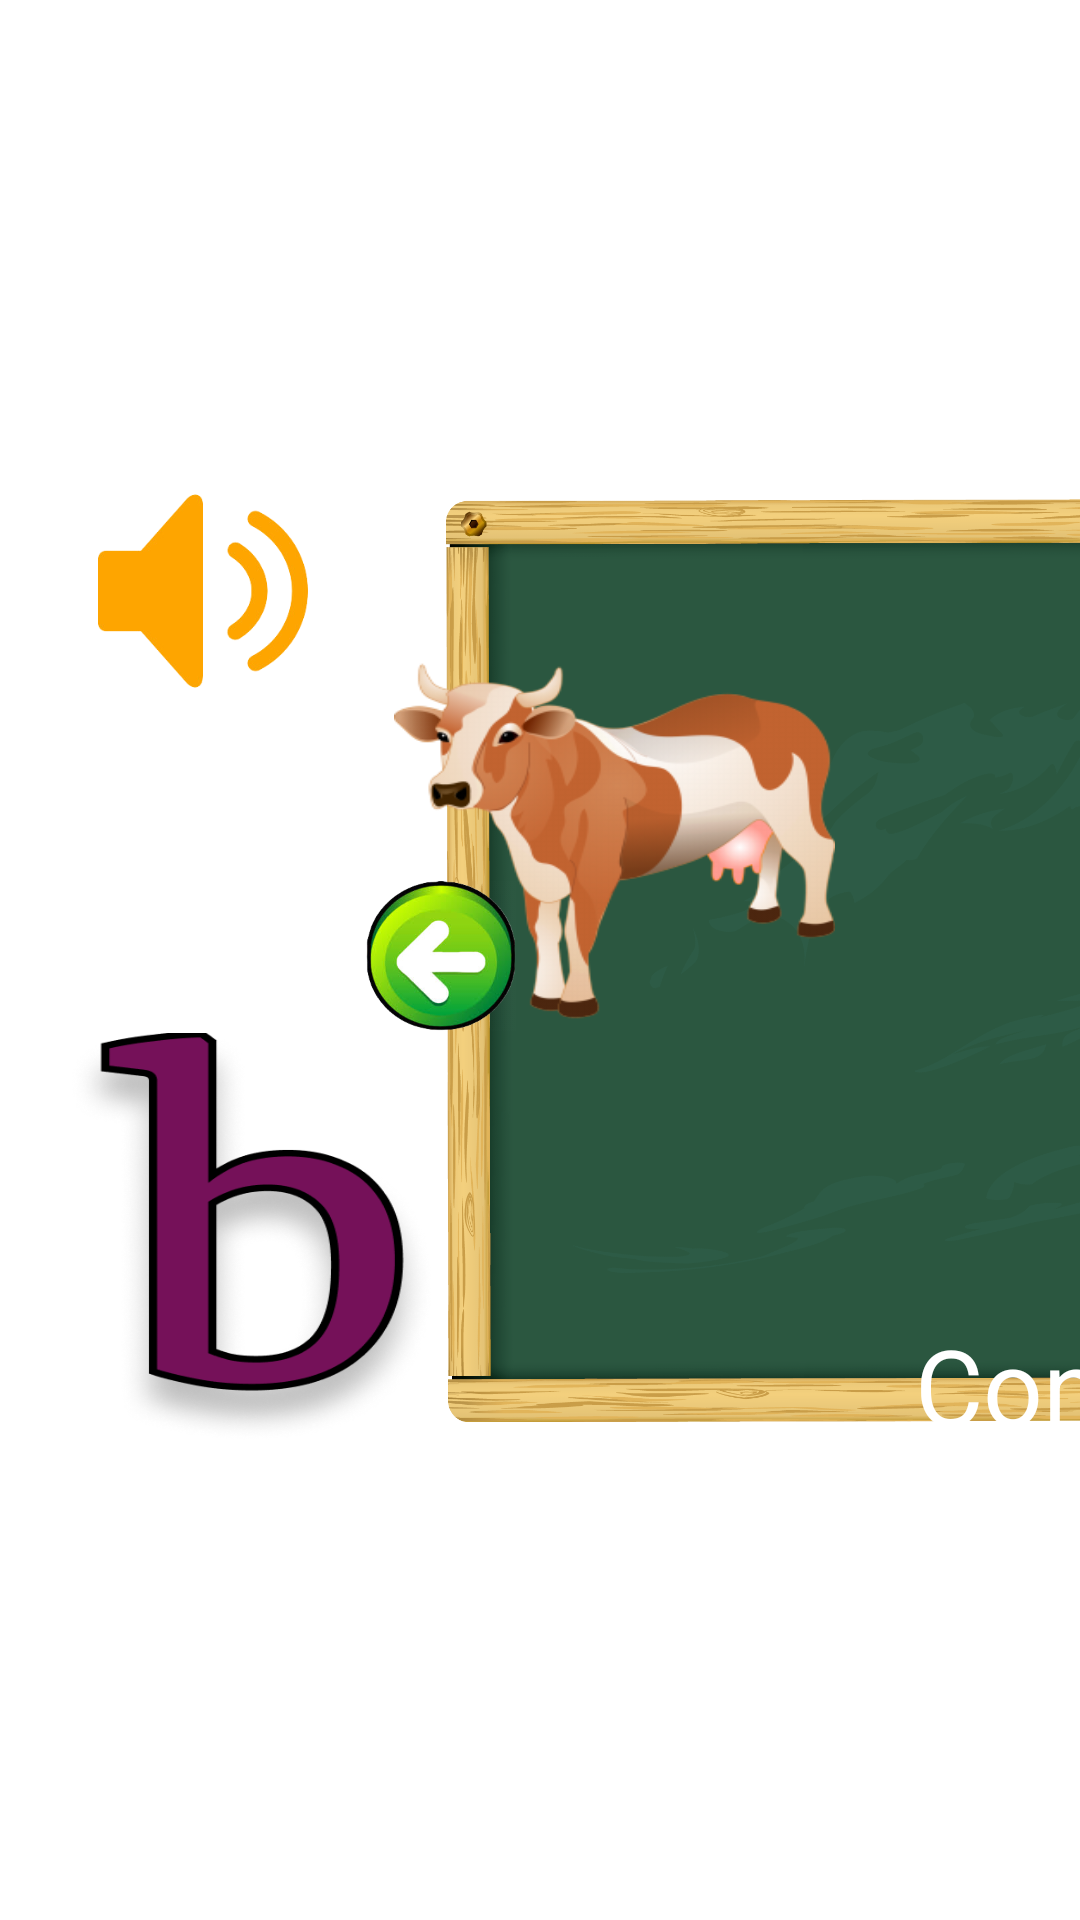

Named icons in this screenshot (1080 × 1920) and their bounding boxes, box=[x1, y1, x2, y2]:
sound: box=[98, 494, 308, 688]
